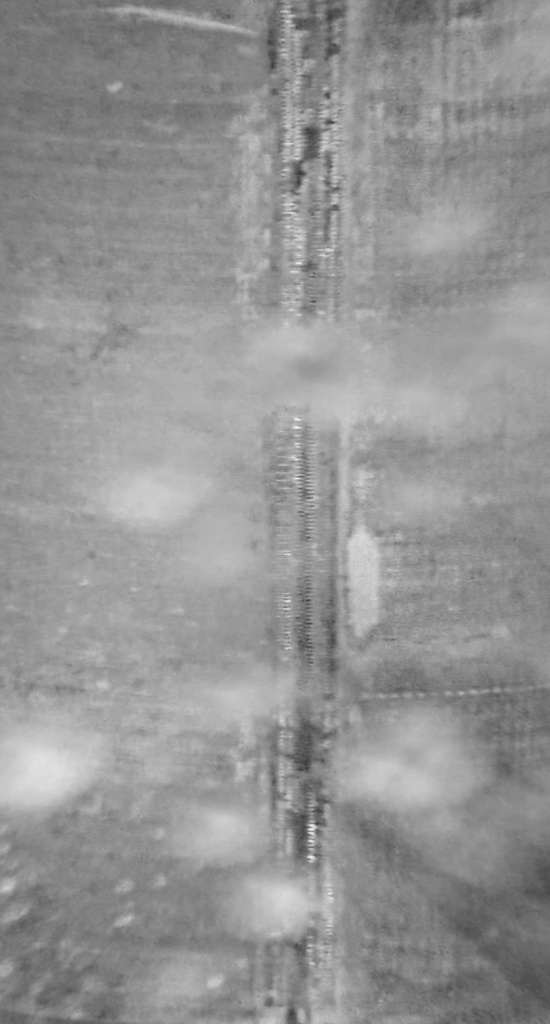splice: (260, 1, 353, 1024)
